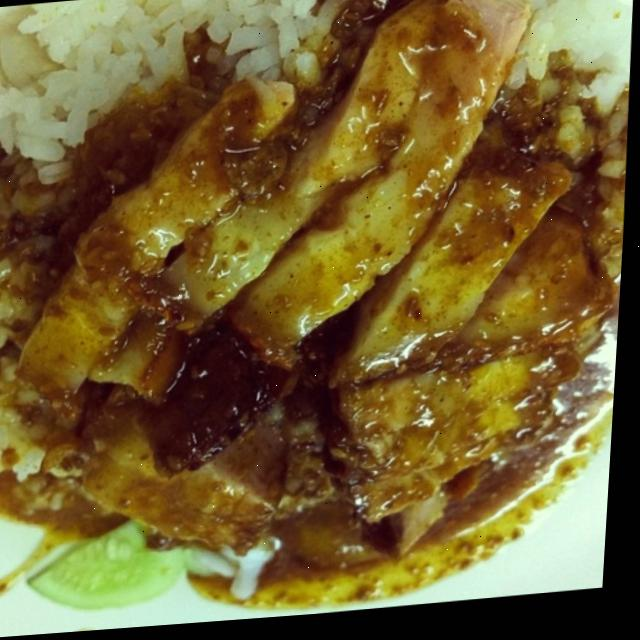猪肉菜式: (0, 0, 633, 632)
